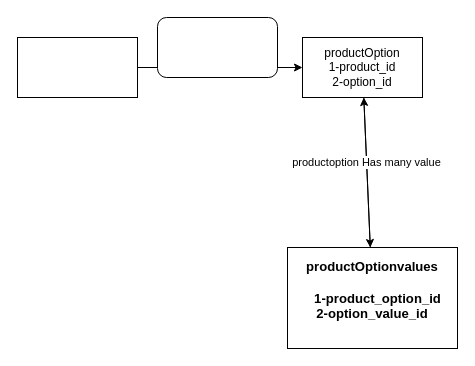
Some shapes in this 475 by 366 pixel diagram are drawn without their labels. The box of each missing label's shape, as (x1, y1, x2, y2) in pixels:
product has many options: (156, 16, 278, 78)
products 1-id main product data: (16, 36, 138, 98)
